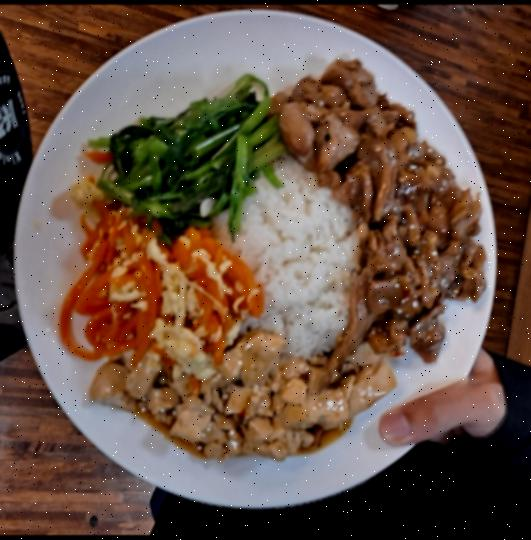plate: (16, 4, 499, 516)
side dish: (85, 338, 394, 460), (65, 220, 259, 358), (101, 80, 279, 226)
three cup chicken: (274, 51, 484, 360)
white rice: (228, 157, 366, 358)
